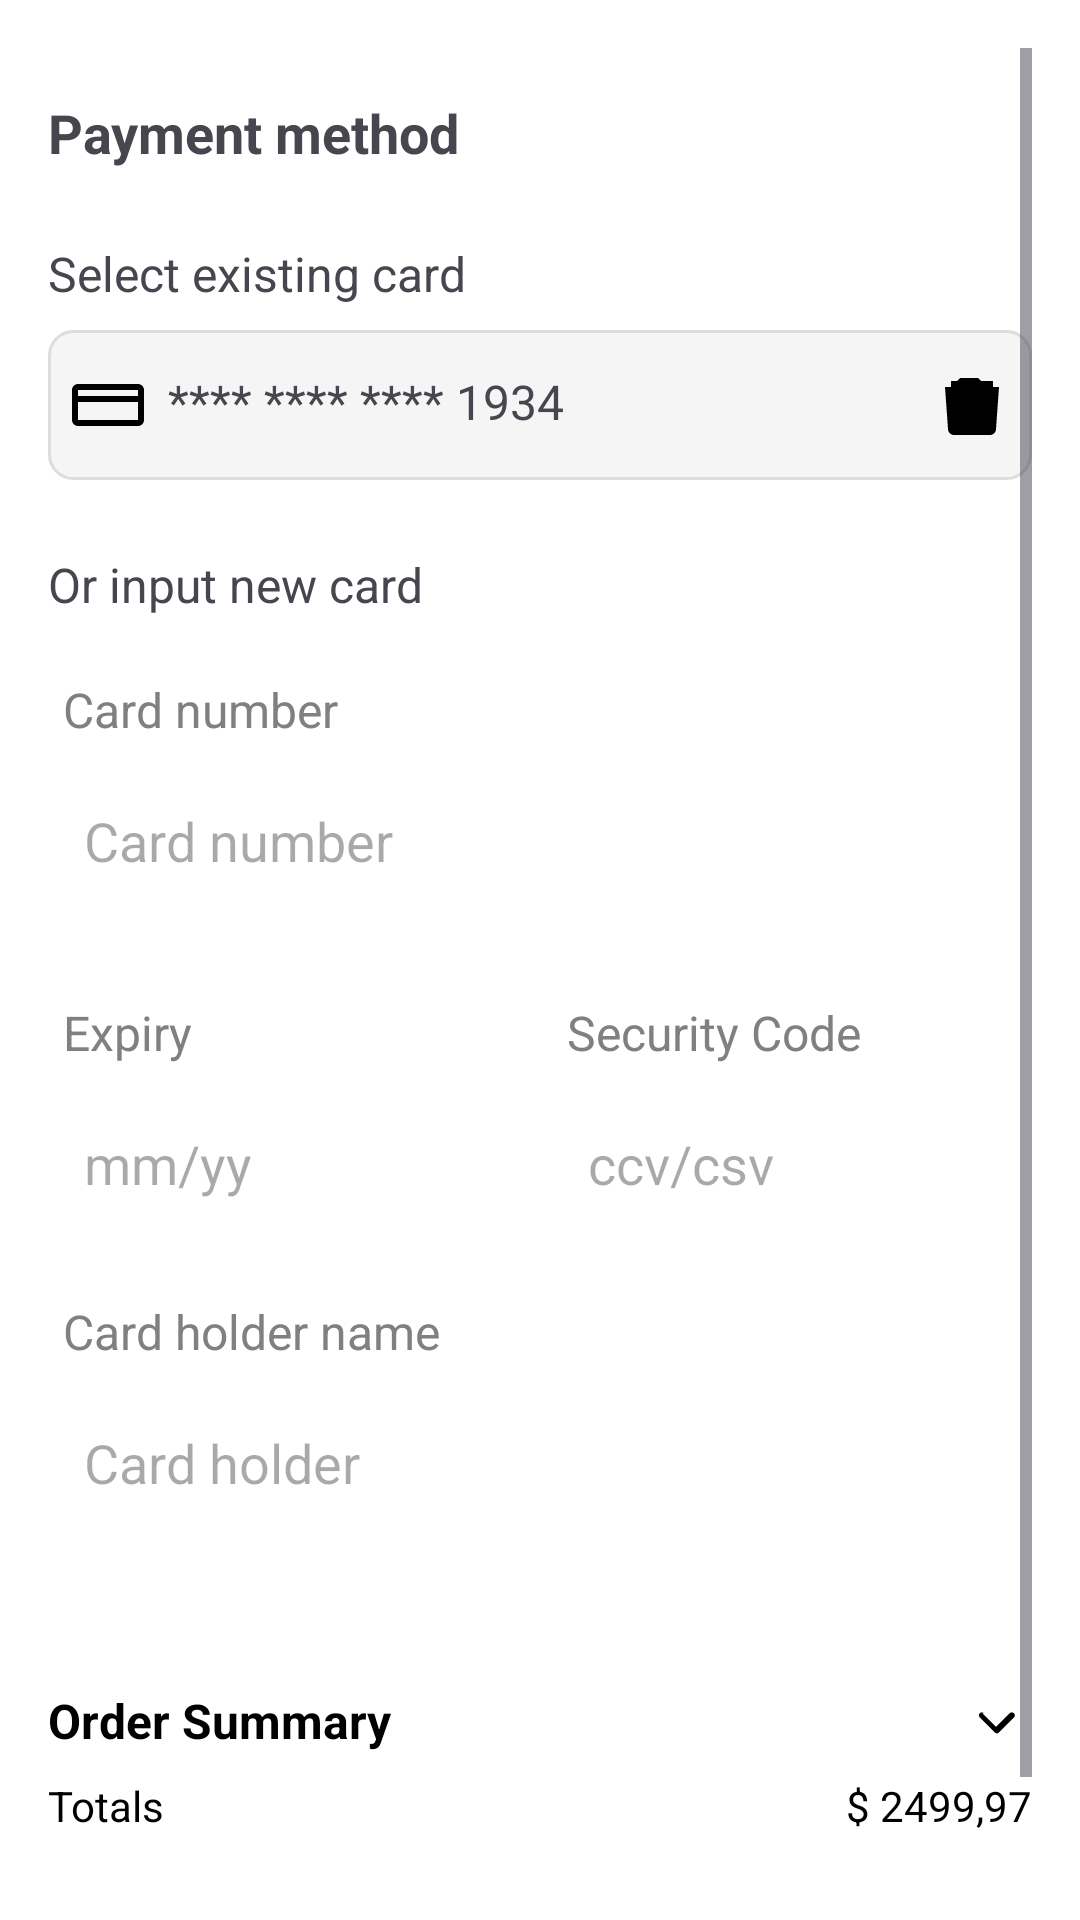

Icon click points for this 1080x1920 phone screenshot, format (x=x, y=y):
delete: (x=972, y=406)
